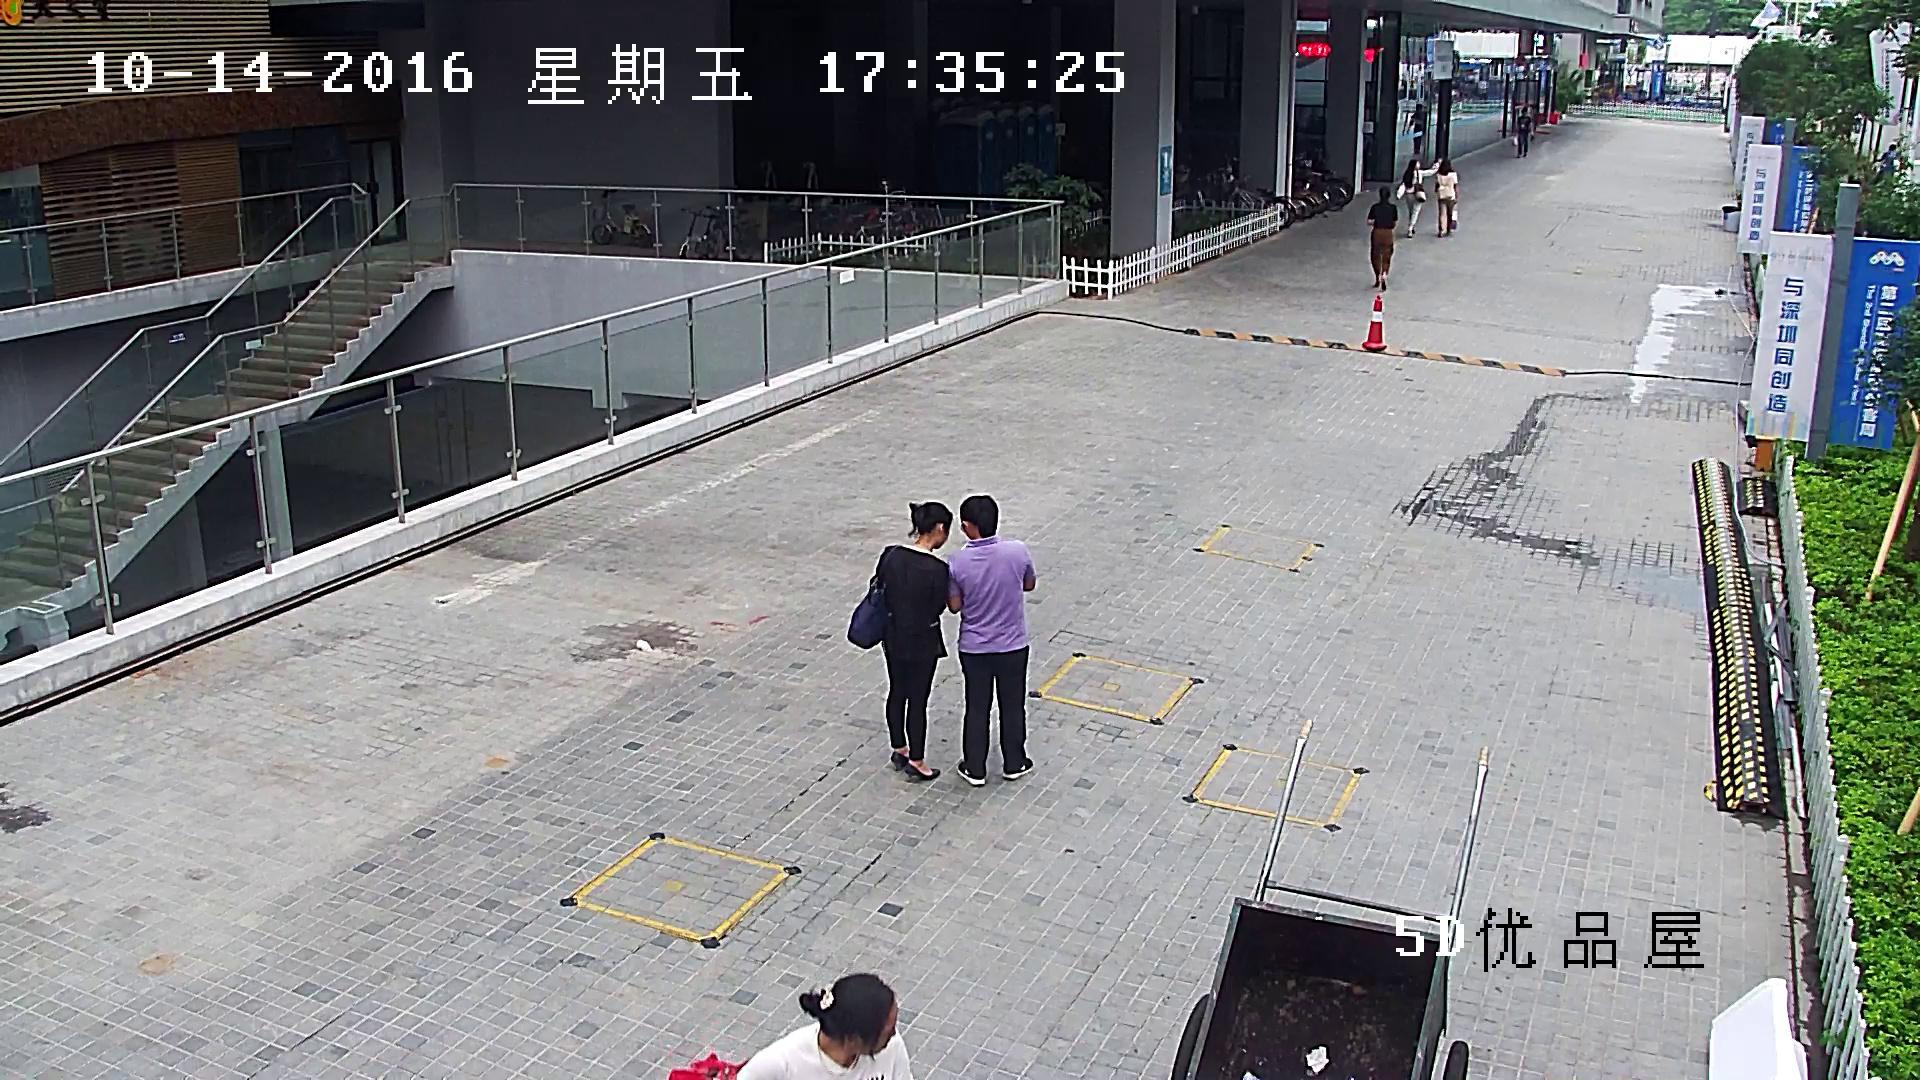person: (848, 501, 953, 780), (947, 495, 1037, 786), (668, 973, 913, 1080), (1396, 159, 1442, 236), (1366, 186, 1398, 289), (1436, 159, 1458, 236), (1513, 108, 1534, 157), (1406, 103, 1425, 154)
